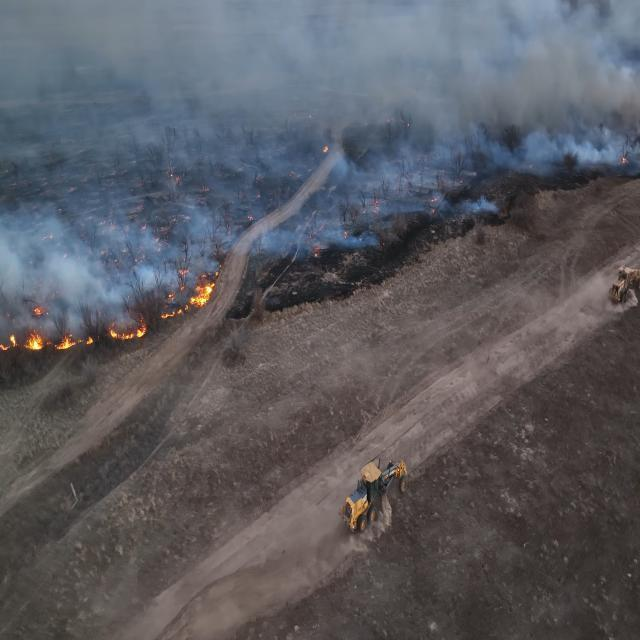Smoke: (155, 0, 515, 157), (514, 0, 629, 132), (5, 206, 117, 336)
